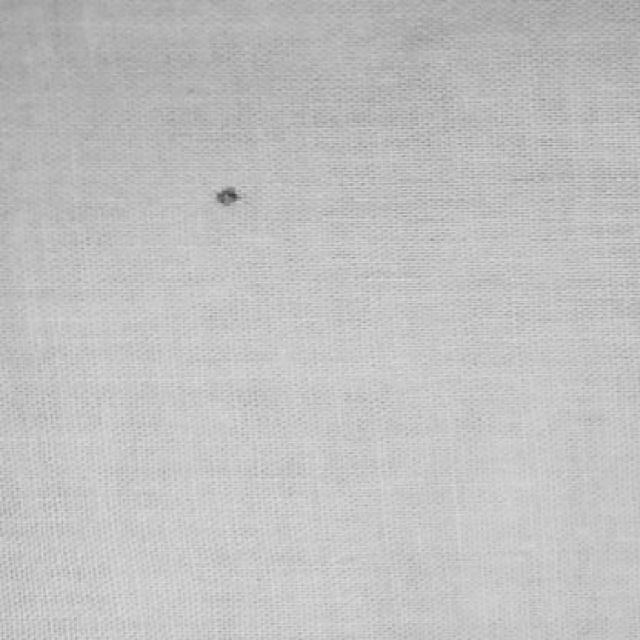Hole: (175, 156, 280, 236)
